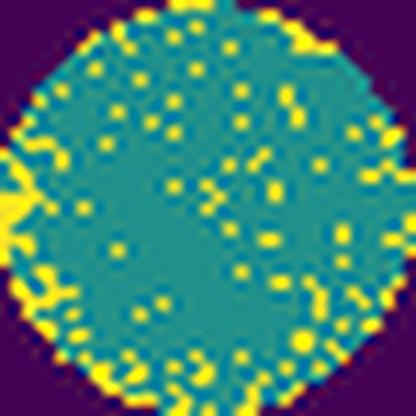Edge-Loc: (0, 148, 59, 268), (10, 256, 84, 343), (256, 2, 338, 60)
